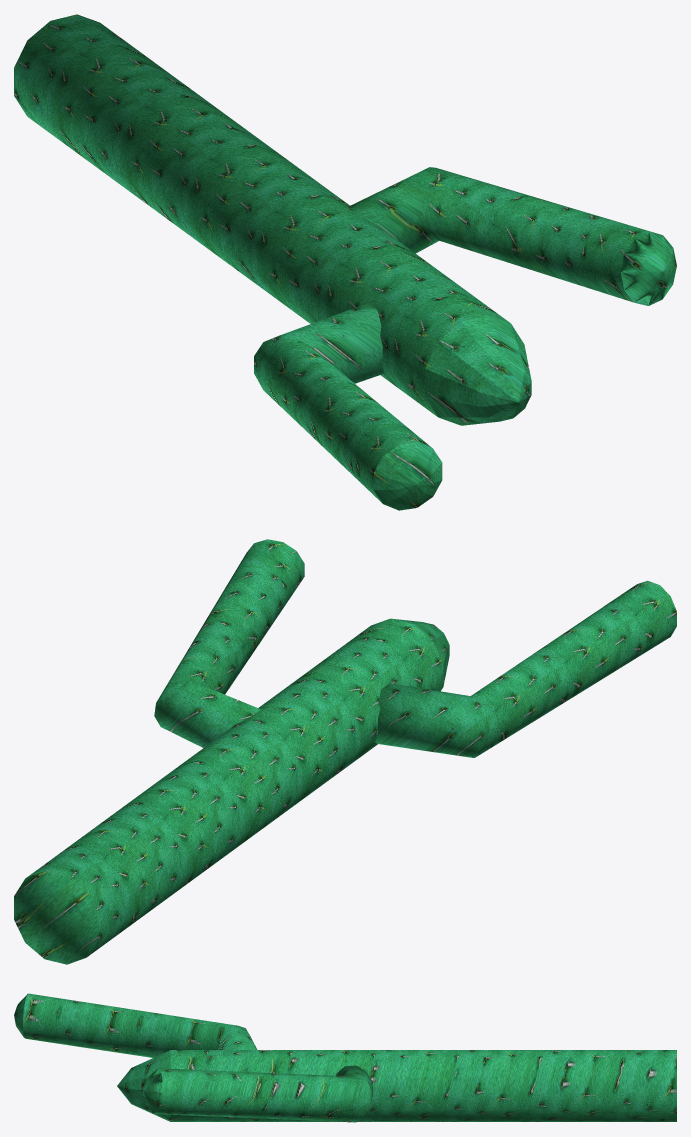
File: cactus.obj
3 views of the same model, one above another, from view 1: azimuth 30°, elevation 25°; view 2: azimuth 150°, elevation 25°; view 3: azimuth 270°, elevation 25° (orthographic). The views are drawn at different scales.
Parts seen in each view (by area): view 1: Cylinder; view 2: Cylinder; view 3: Cylinder.
Boxes of the visible parts, box(x1,y1,x2,y2) form: Cylinder: box(14, 14, 676, 510); Cylinder: box(14, 539, 676, 964); Cylinder: box(14, 993, 676, 1122).
Bounding box in the file's own units: 1.3 × 0.4738 × 2.97.
